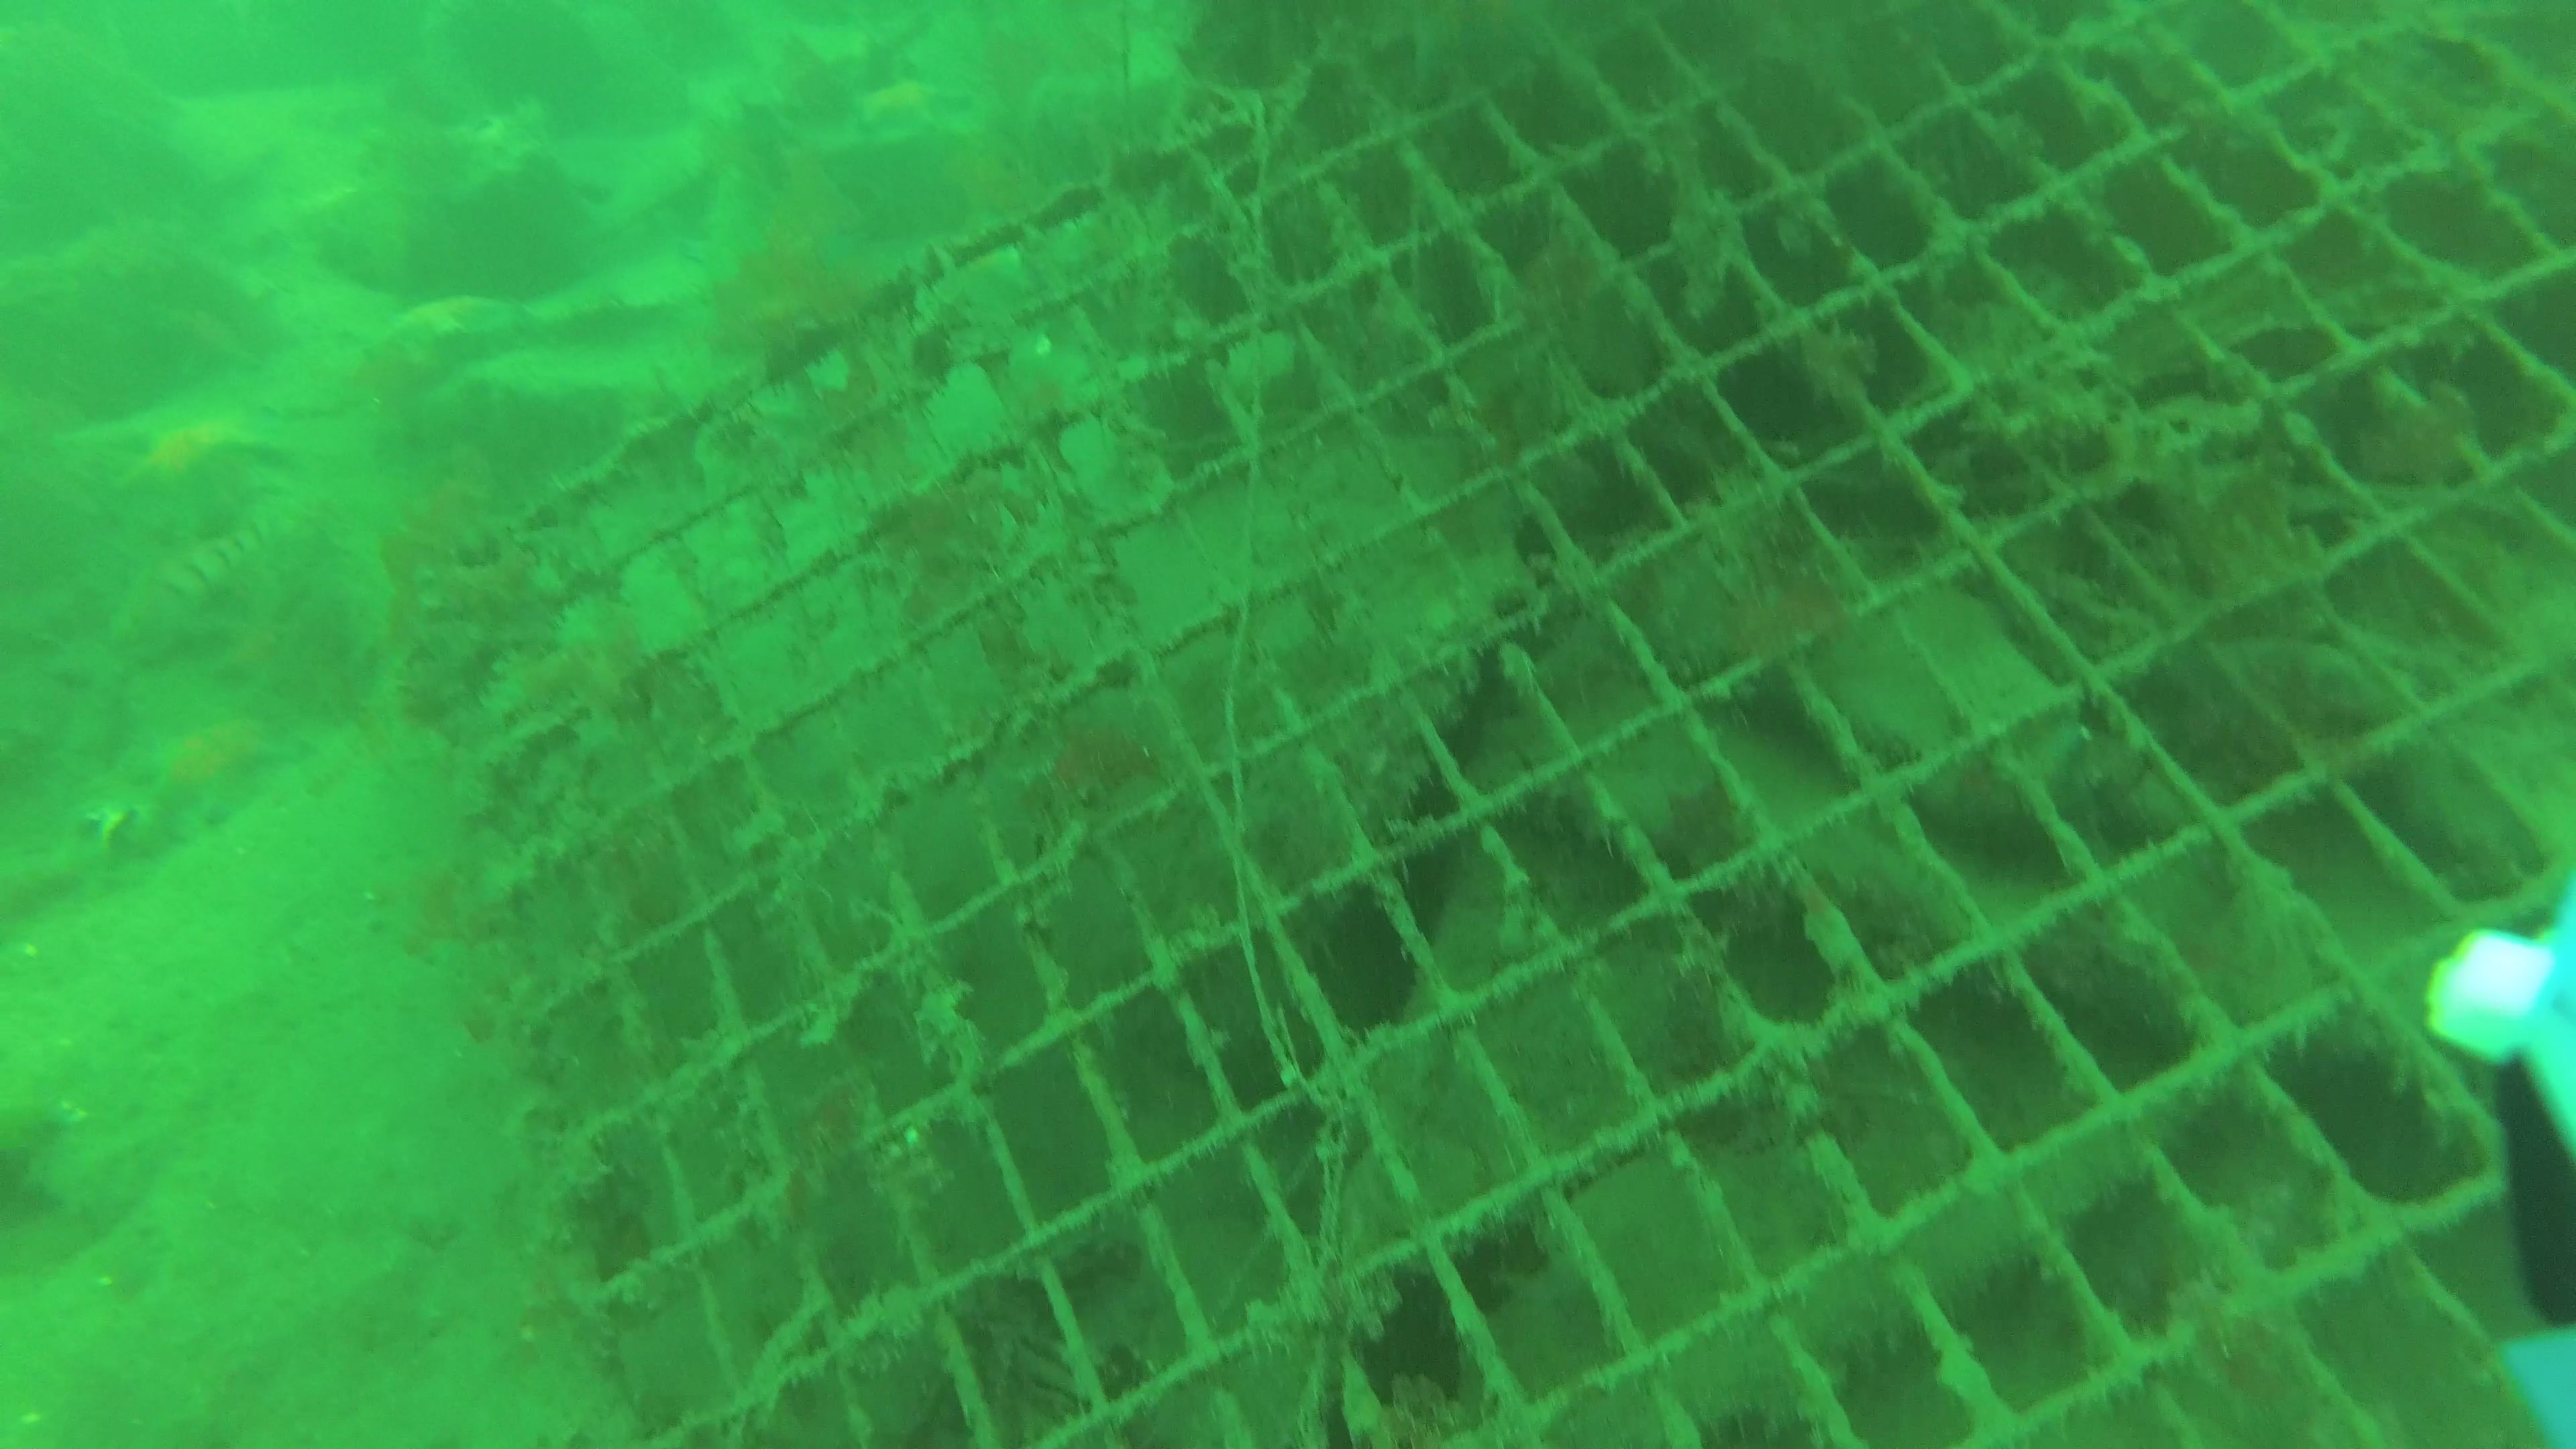starfish: (149, 706, 274, 832), (126, 421, 280, 499)
